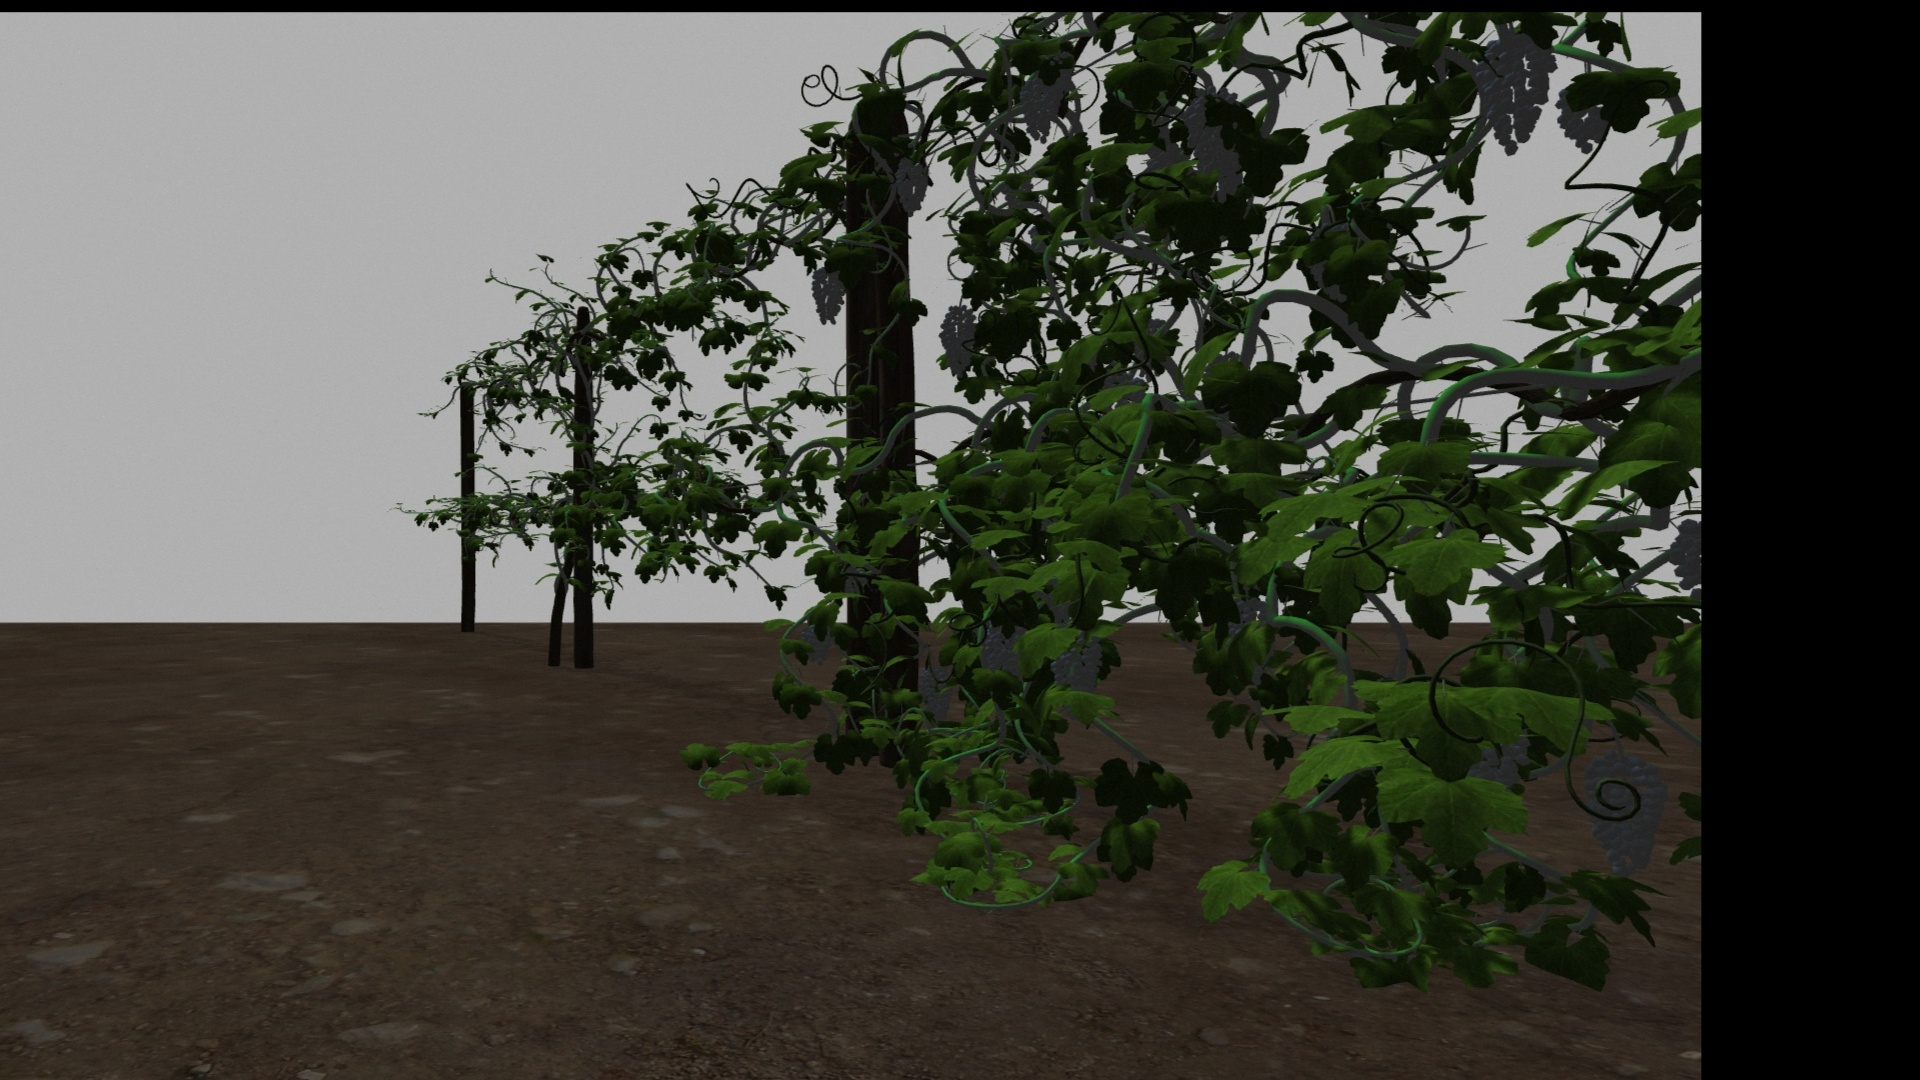grape: (1575, 756, 1668, 873), (1476, 29, 1557, 157), (1178, 84, 1247, 202), (1015, 58, 1073, 145), (1048, 632, 1102, 700), (980, 618, 1029, 683), (938, 305, 978, 378), (808, 262, 847, 327), (916, 667, 955, 731), (894, 158, 930, 222), (798, 620, 833, 666)
